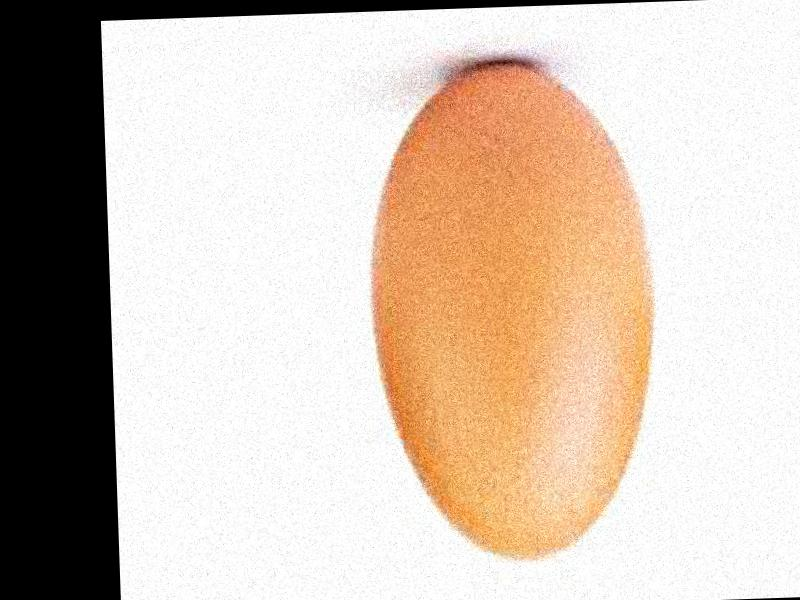Eggs: (366, 59, 657, 564)
